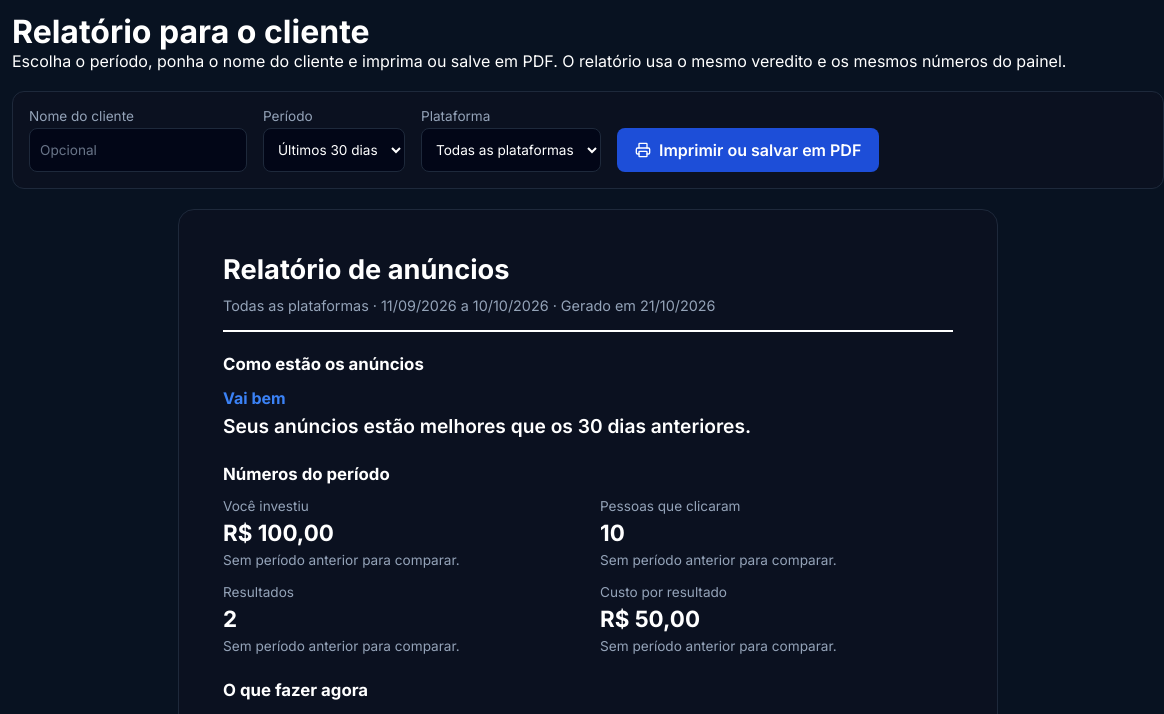
Test case: Report page › reloads when the period or the platform changes
Select "Últimos 7 dias" in the dropdown labelled "Período" at (334,150), box x1=263 y1=128 x2=405 y2=172
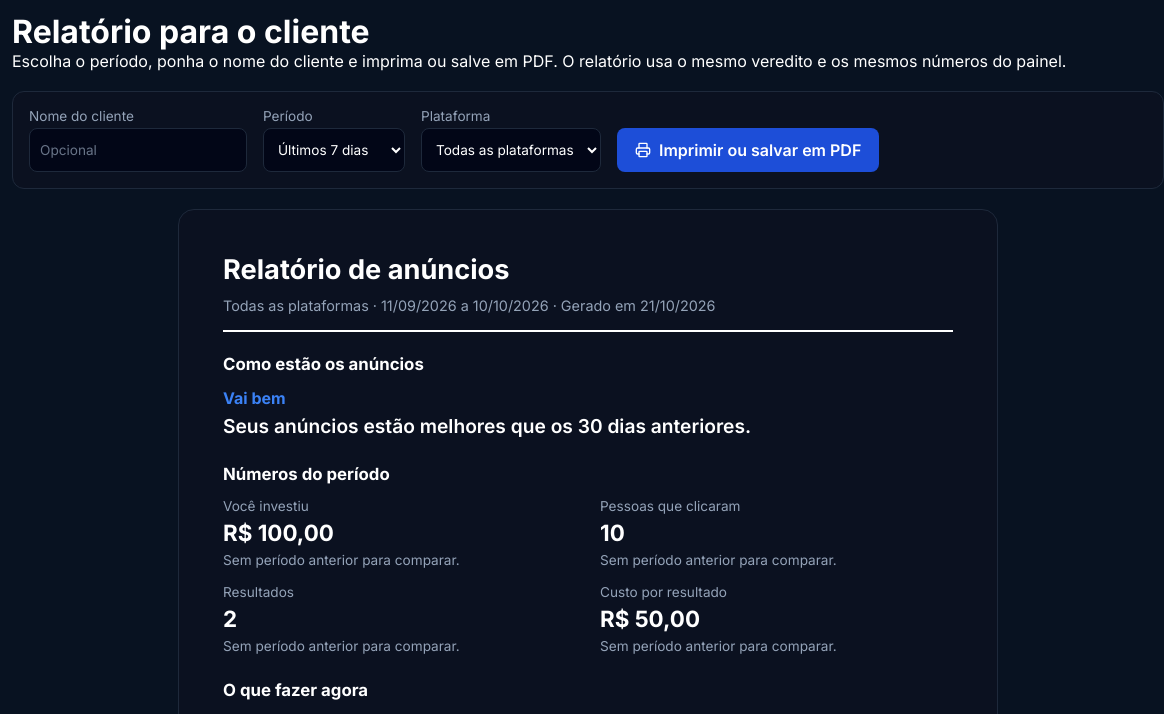
Select "Meta Ads" in the dropdown labelled "Plataforma" at (511,150), box x1=421 y1=128 x2=601 y2=172
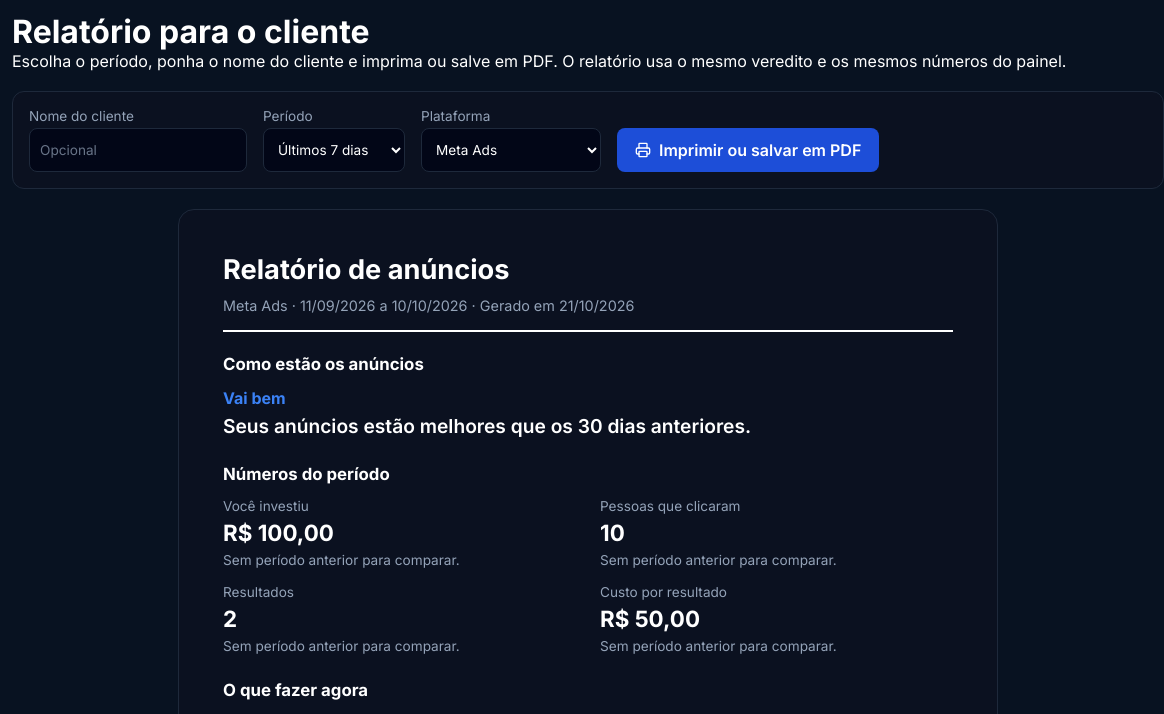
Now the text "Meta Ads · 11/09/2026 a 10/10/2026 · Gerado em 21/10/2026" is shown, box x1=223 y1=297 x2=634 y2=314
